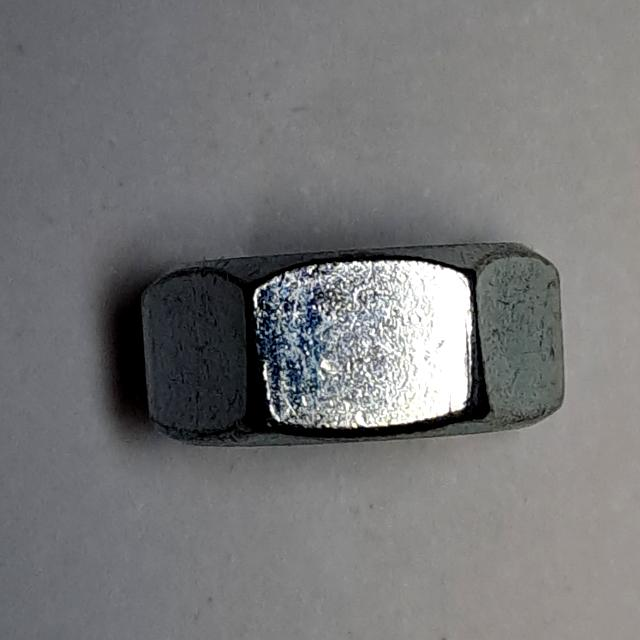Side_Excellent: (132, 231, 584, 479)
